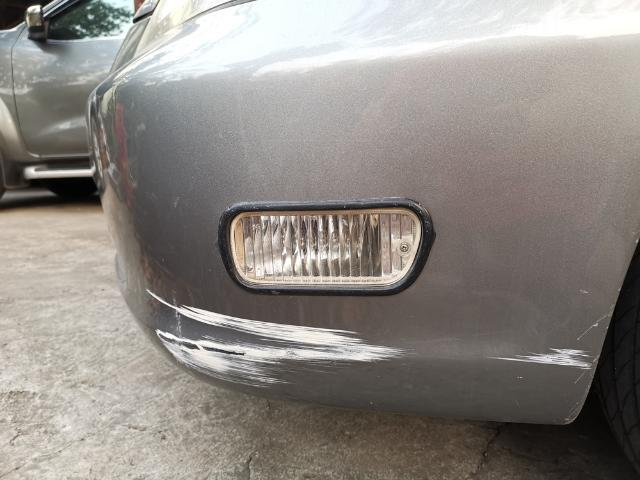scratch: (142, 287, 418, 387), (485, 344, 600, 372)
